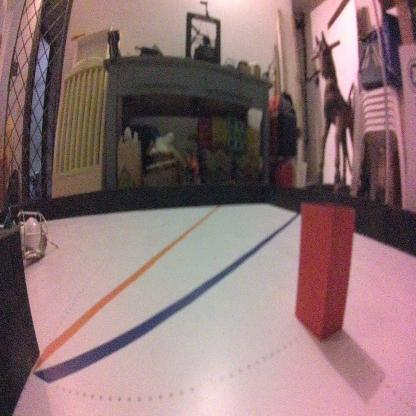red: (294, 198, 358, 344)
